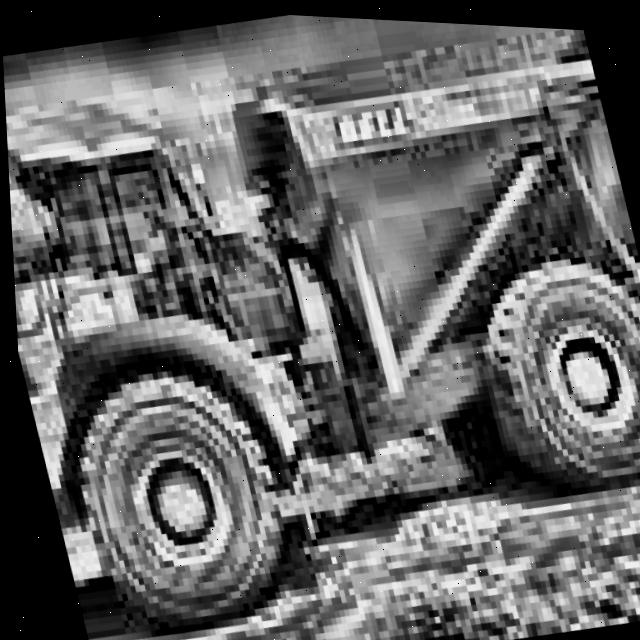dump_truck: (0, 0, 640, 637)
